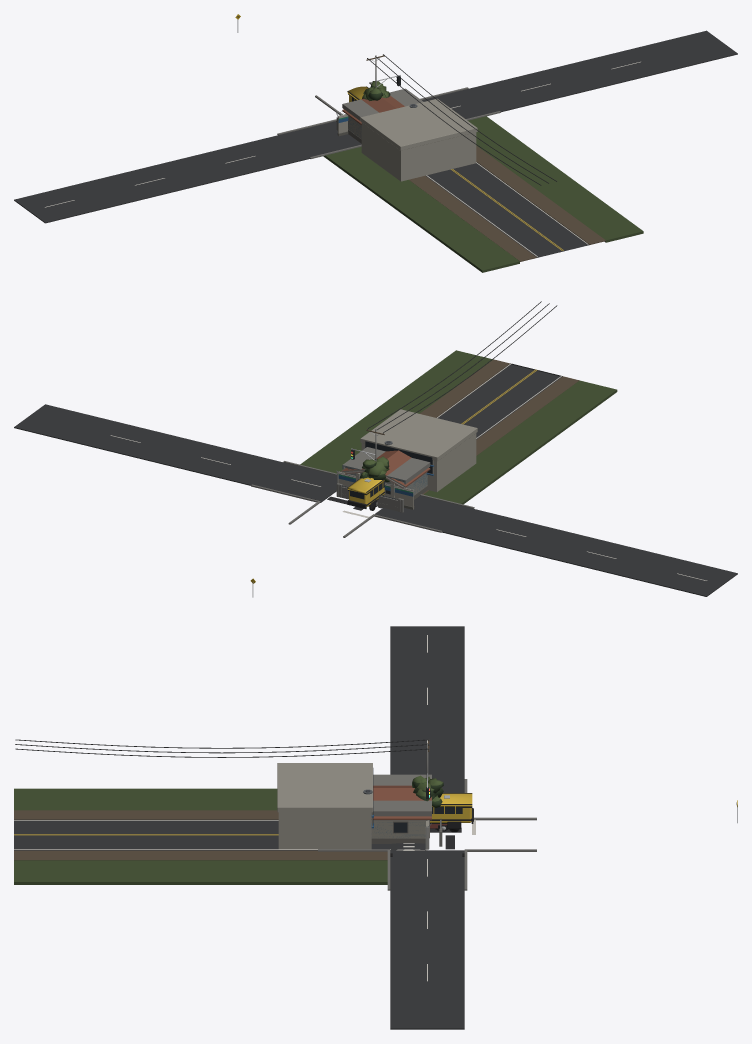
Rendered from via.glb.
The picture shows the model from 3 angles, top to bottom: view 1: azimuth 30°, elevation 25°; view 2: azimuth 150°, elevation 25°; view 3: azimuth 270°, elevation 25°; orthographic projection. The views are drawn at different scales.
Visible parts, largest first — view 1: via_trecho, via_cruzamento, via_escola, via_casa_b, via_cabos, via_casa; view 2: via_cruzamento, via_trecho, via_escola, via_casa_b, via_casa, via_onibus, via_cabos, via_arvore; view 3: via_trecho, via_cruzamento, via_escola, via_casa, via_cabos, via_casa_b, via_onibus, via_arvore.
Part boxes in pixels (x1,y1,x2,y2): via_trecho: (323, 116, 643, 272); via_cruzamento: (14, 30, 737, 223); via_escola: (338, 98, 477, 181); via_casa_b: (342, 88, 423, 138); via_cabos: (367, 54, 556, 185); via_casa: (336, 95, 417, 143); via_cruzamento: (14, 404, 737, 596); via_trecho: (300, 350, 617, 504); via_escola: (337, 409, 477, 509); via_casa_b: (339, 447, 430, 511); via_casa: (336, 441, 430, 512); via_onibus: (347, 477, 385, 510); via_cabos: (368, 301, 557, 432); via_arvore: (360, 456, 389, 482); via_trecho: (14, 788, 395, 884); via_cruzamento: (318, 626, 536, 1029); via_escola: (277, 763, 428, 849); via_casa: (363, 785, 442, 846); via_cabos: (15, 739, 428, 757); via_casa_b: (371, 774, 441, 838); via_onibus: (430, 793, 473, 832); via_arvore: (412, 775, 443, 808).
Size of what is drawn, in the model's own units: 92 by 9.33 by 70.03.
